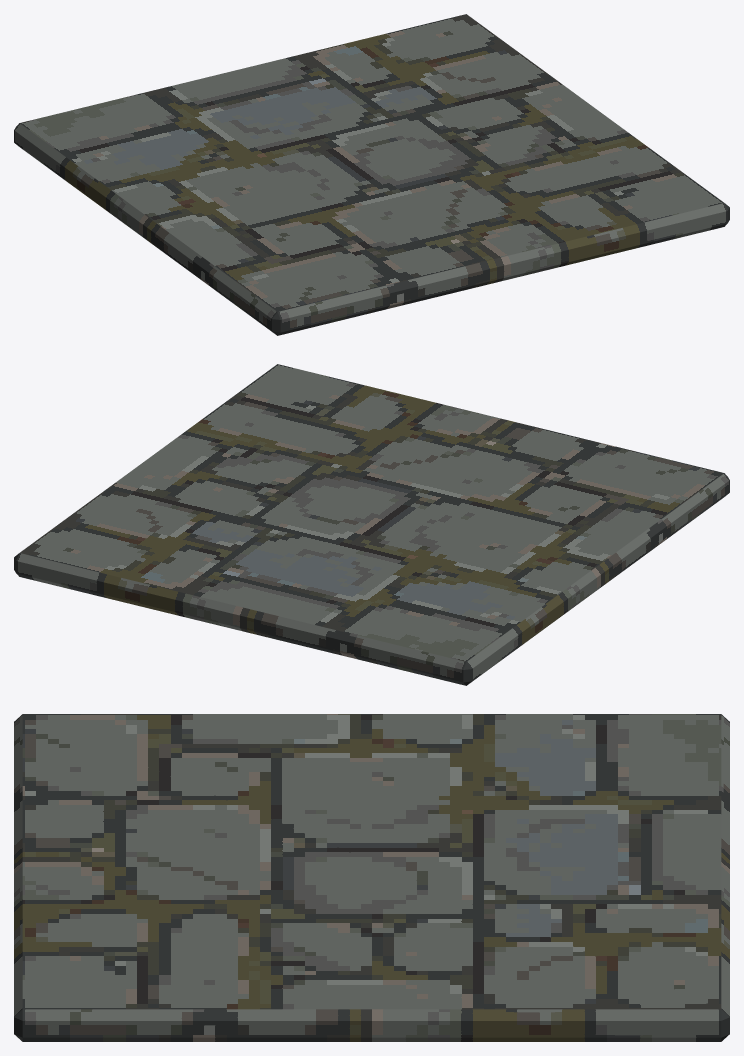
Rendered from topo_b.glb.
The picture shows the model from 3 angles, top to bottom: view 1: azimuth 30°, elevation 25°; view 2: azimuth 150°, elevation 25°; view 3: azimuth 270°, elevation 25°; orthographic projection. The views are drawn at different scales.
Visible parts, largest first — view 1: pedreira_topo_b; view 2: pedreira_topo_b; view 3: pedreira_topo_b.
Boxes of the visible parts, bbox=[...] form: pedreira_topo_b: bbox=[14, 14, 729, 335]; pedreira_topo_b: bbox=[14, 364, 729, 685]; pedreira_topo_b: bbox=[14, 714, 729, 1041].
Size of the model in its own units: 1 by 0.05 by 1.
1 material, 1 textured.
